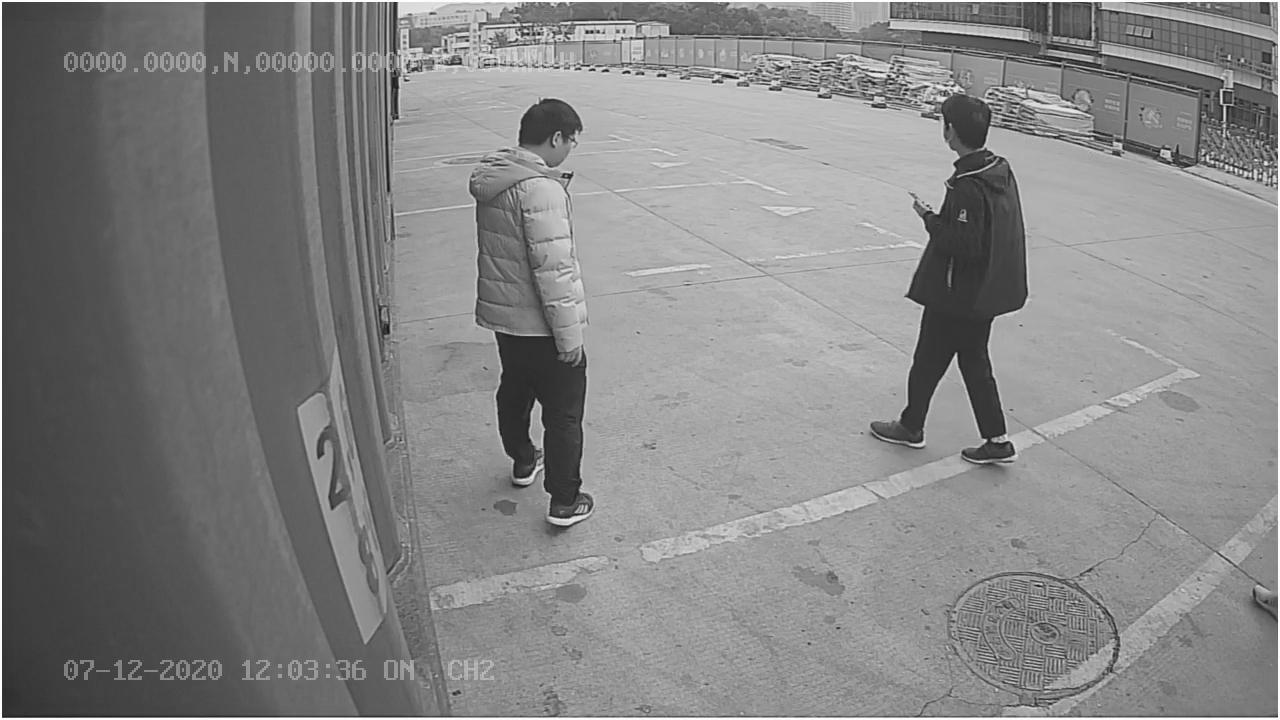person: (863, 92, 1034, 470), (470, 85, 604, 530)
